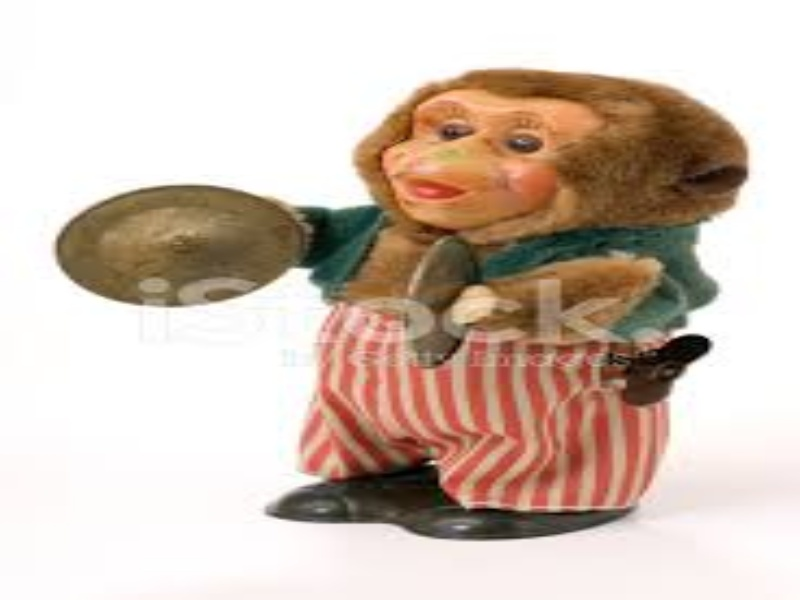monkey: (57, 54, 756, 555)
